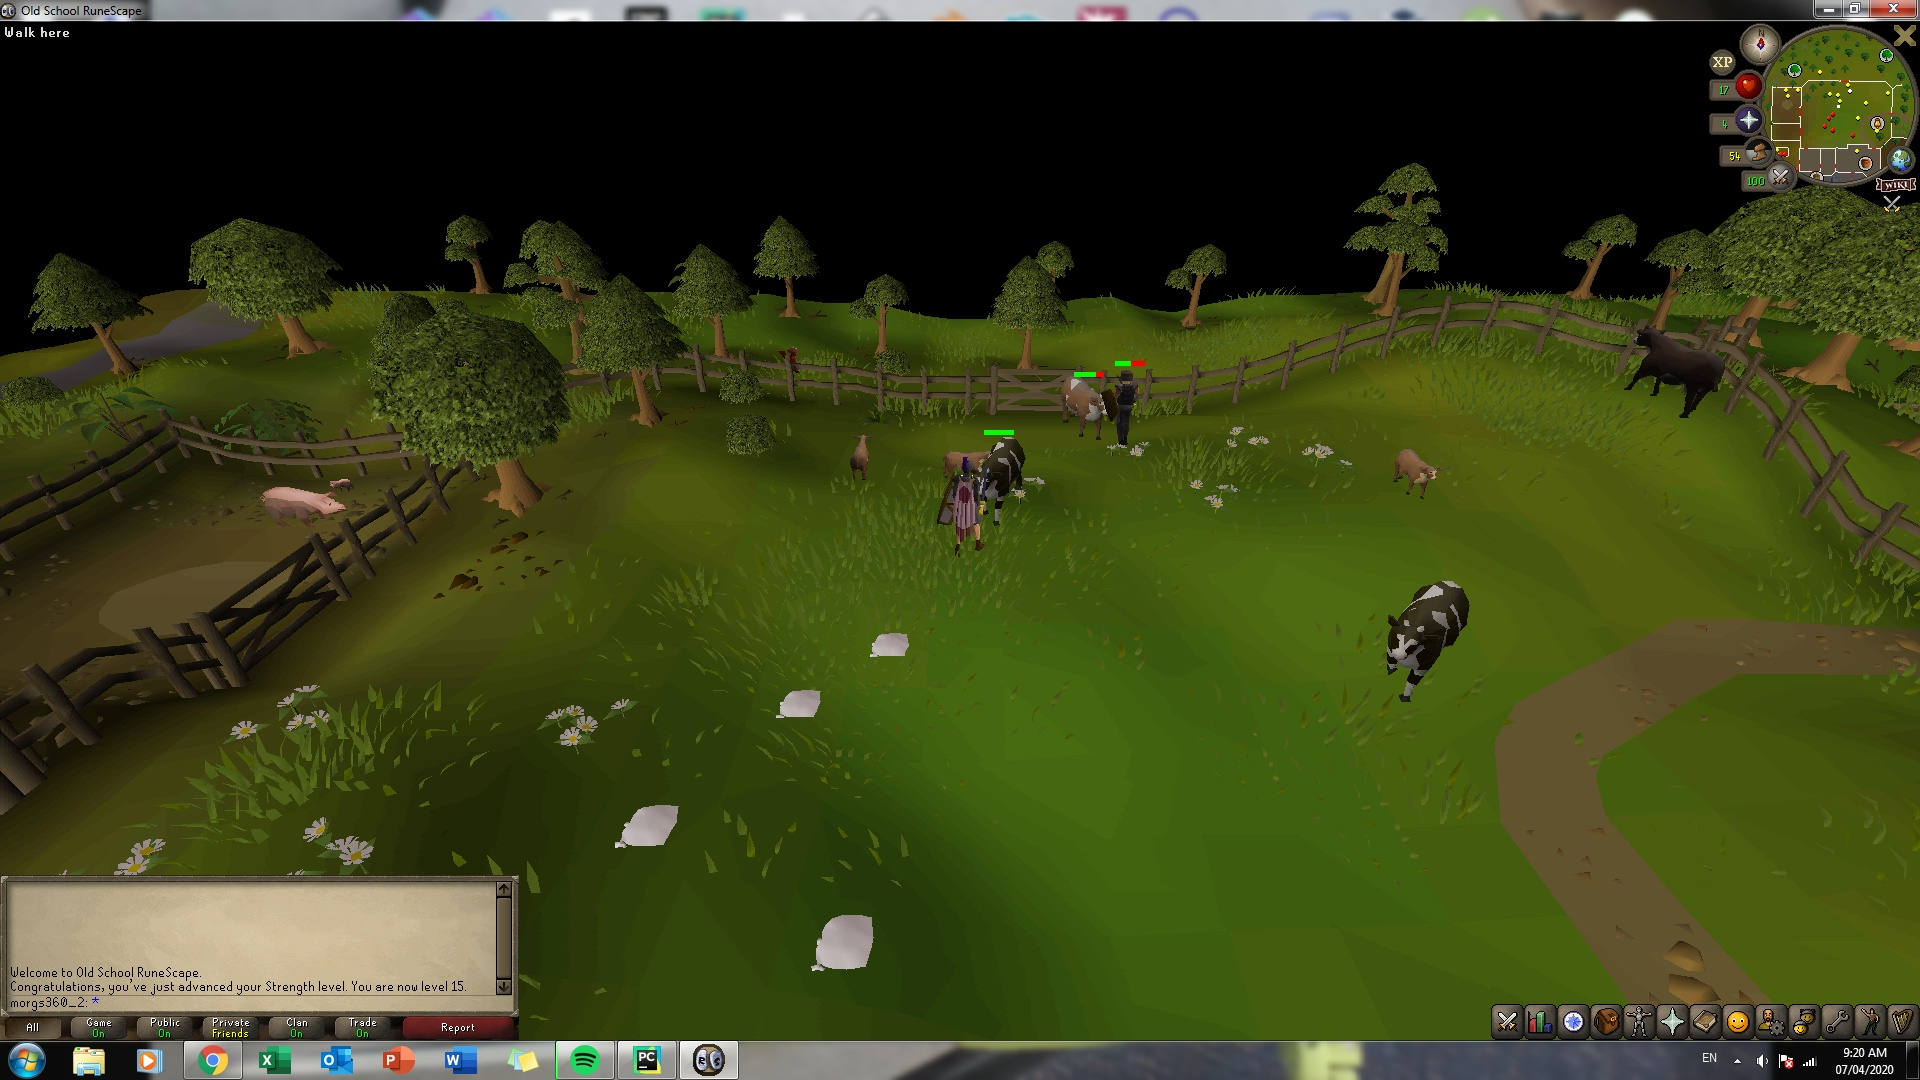cow: (1381, 575, 1469, 706), (1624, 320, 1727, 420), (981, 433, 1021, 525), (1386, 442, 1445, 498), (1058, 375, 1107, 440), (845, 429, 875, 490)
player: (944, 456, 985, 557)
